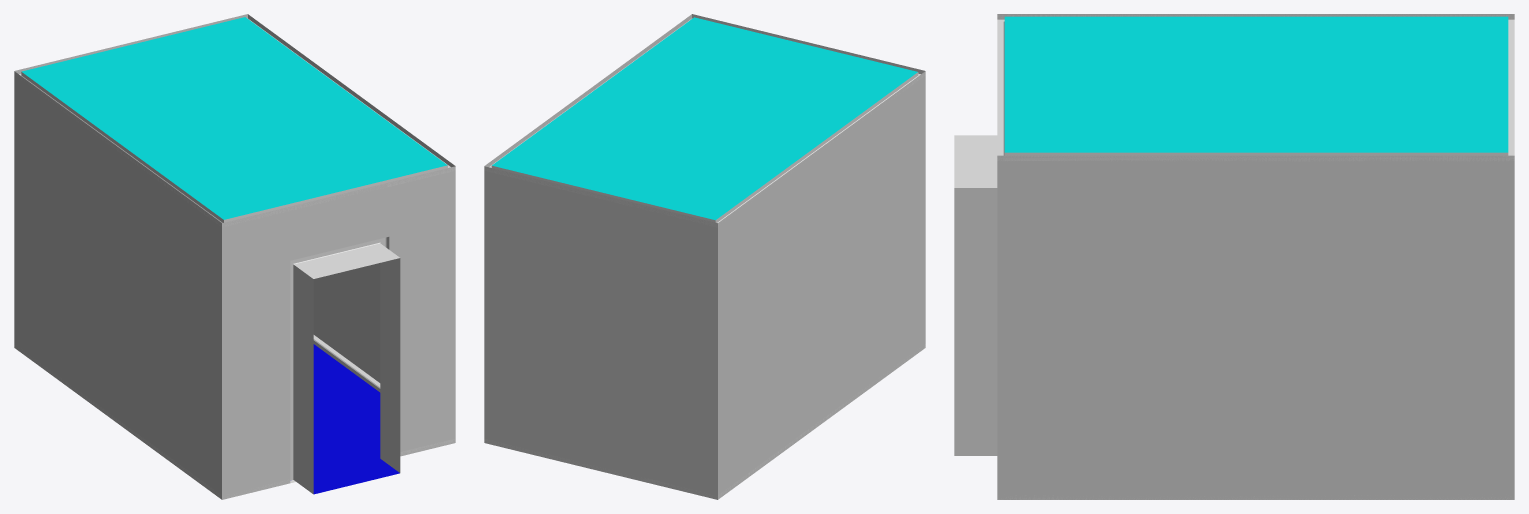
Rendered from AsylumCell_Revised.fbx.
3 views of the same model, side by side, from view 1: azimuth 30°, elevation 25°; view 2: azimuth 150°, elevation 25°; view 3: azimuth 270°, elevation 25° (orthographic). The views are drawn at different scales.
Parts seen in each view (by area): view 1: AsylumCell; view 2: AsylumCell; view 3: AsylumCell.
Boxes of the visible parts, left/top/right/bottom form: AsylumCell: left=14, top=14, right=455, bottom=499; AsylumCell: left=484, top=14, right=925, bottom=499; AsylumCell: left=954, top=14, right=1514, bottom=499.
Bounding box in the file's own units: 232 × 263 × 387.
